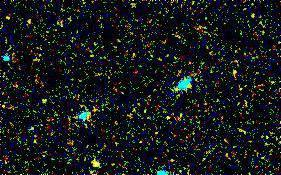star: (90, 146, 120, 175)
